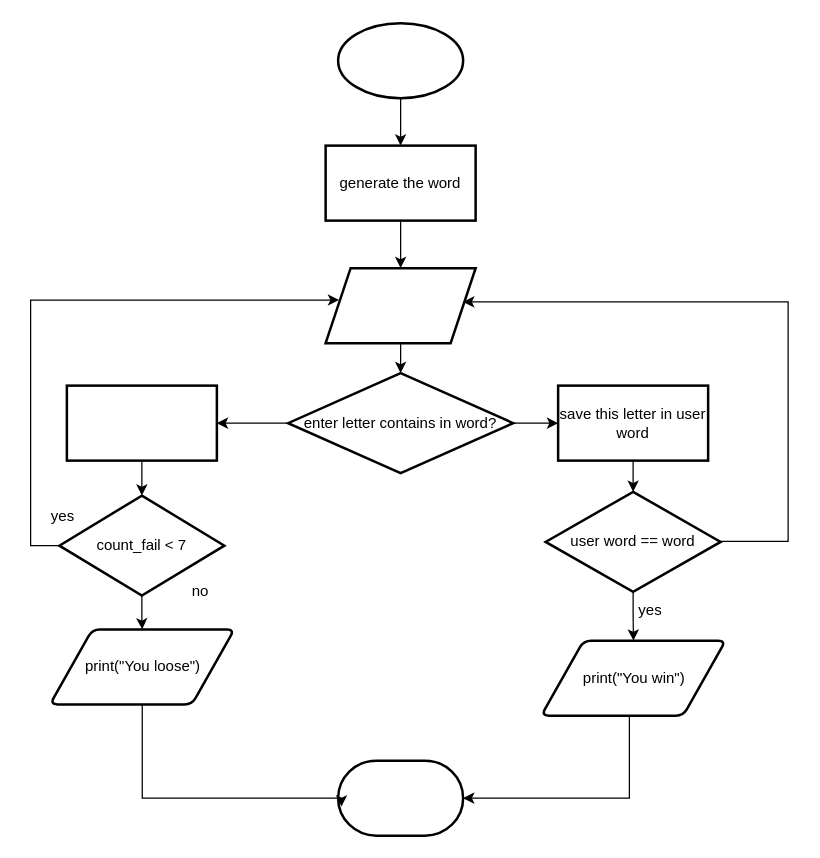
This 820x858 diagram has some shape labels left out. Each missing label, with the centre of its shape:
"count_fail +=1" goes at (x=141, y=422).
"end" goes at (x=400, y=797).
"enter letter" goes at (x=400, y=305).
"Start" goes at (x=400, y=60).
